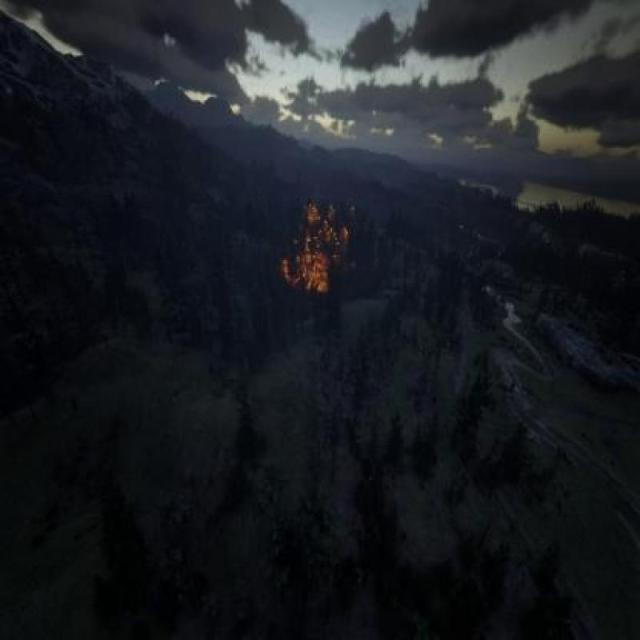Fire: (281, 191, 356, 301)
